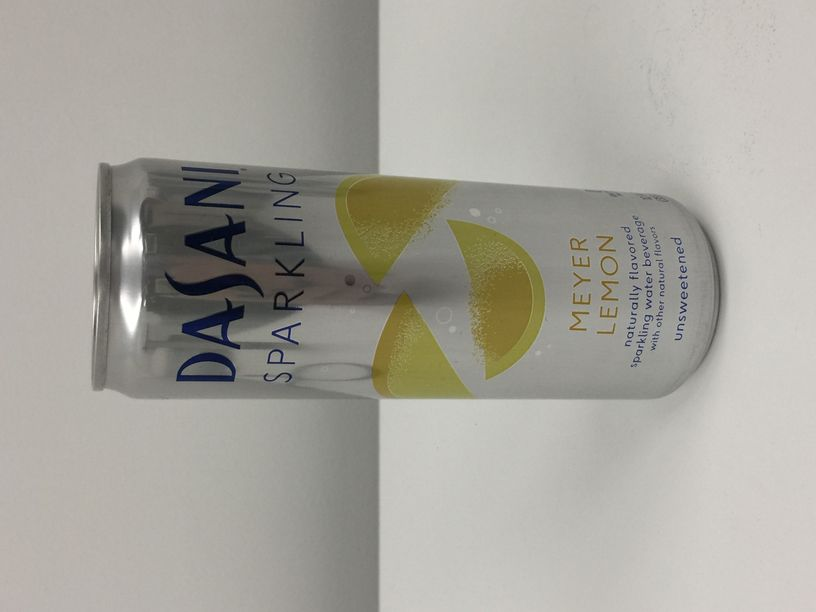lemon: (92, 156, 718, 403)
